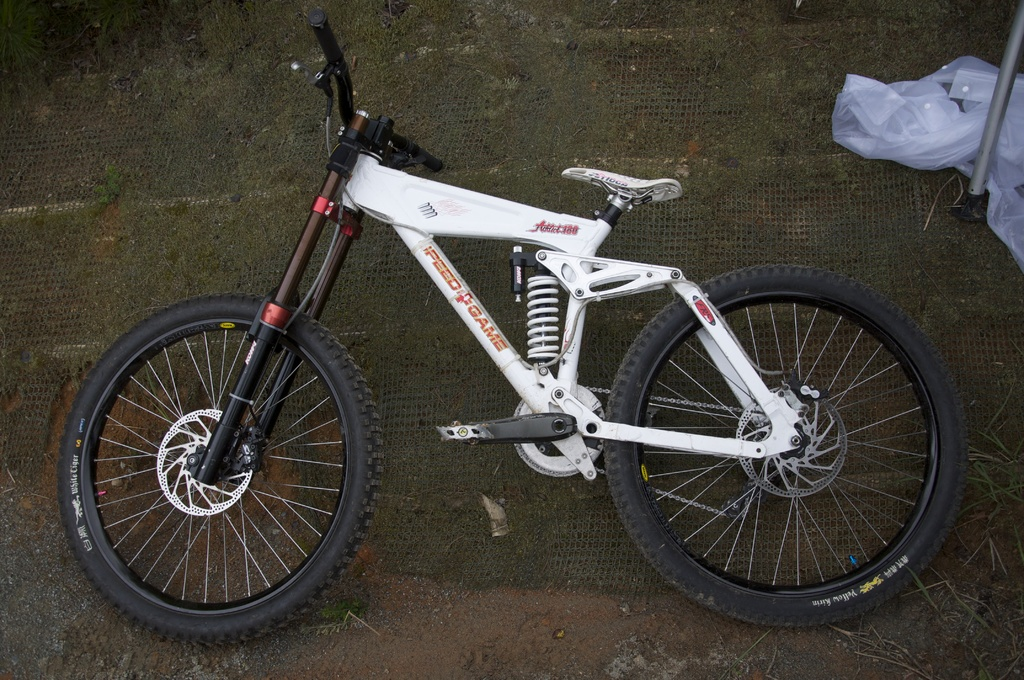Bike: (61, 91, 930, 680)
